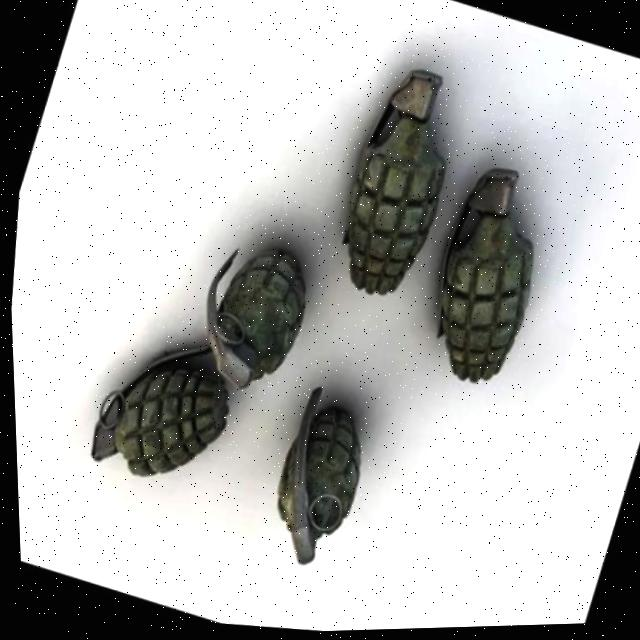grenade: (24, 0, 614, 620)
